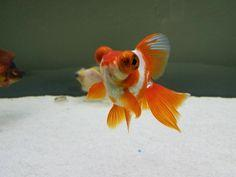goldfish: (79, 39, 184, 135)
